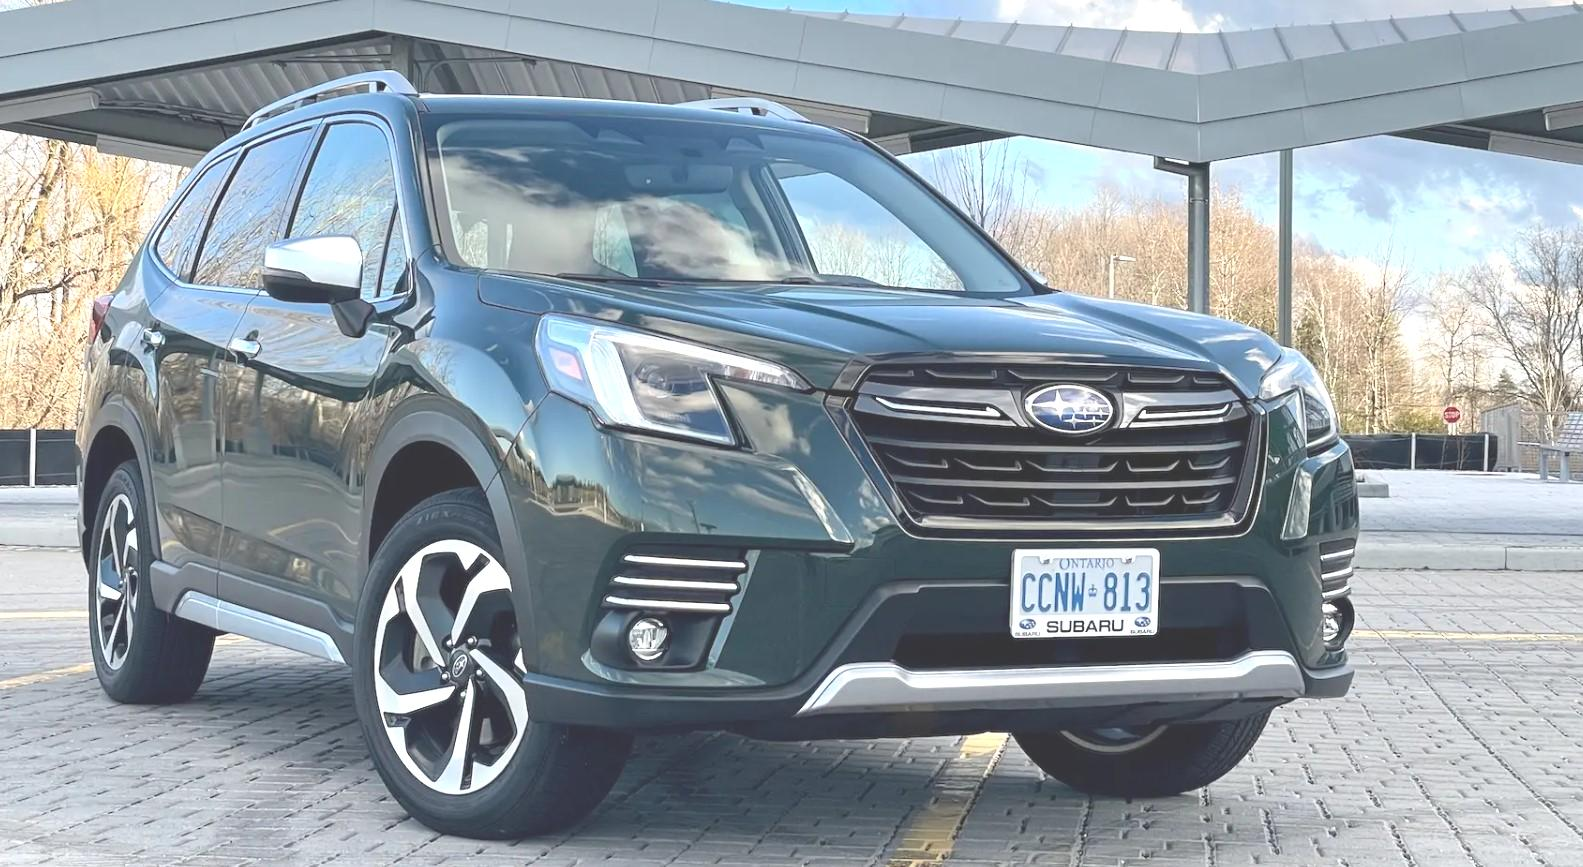subaru: (1012, 374, 1126, 444)
